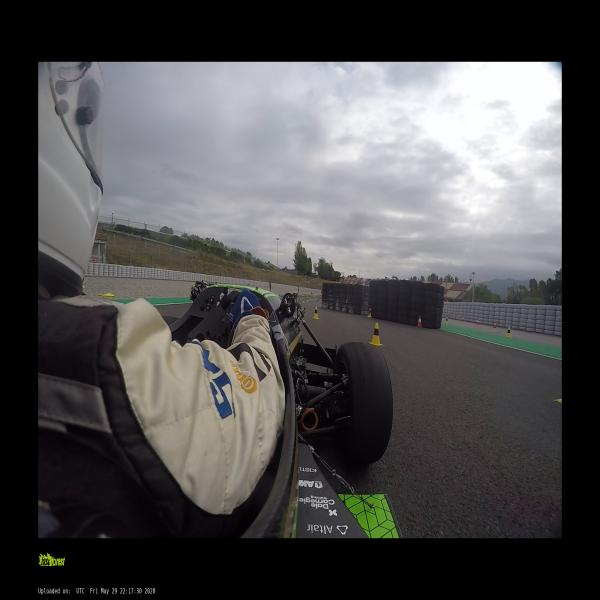orange_cone: (416, 316, 422, 327), (492, 322, 496, 329), (476, 319, 479, 325), (461, 316, 464, 322)
yellow_cone: (369, 323, 384, 345), (312, 307, 320, 319), (505, 327, 511, 339), (366, 308, 372, 317), (445, 317, 448, 324), (302, 298, 305, 304), (306, 297, 309, 302), (309, 297, 312, 301), (315, 297, 317, 300), (320, 297, 322, 300), (313, 297, 314, 300)
